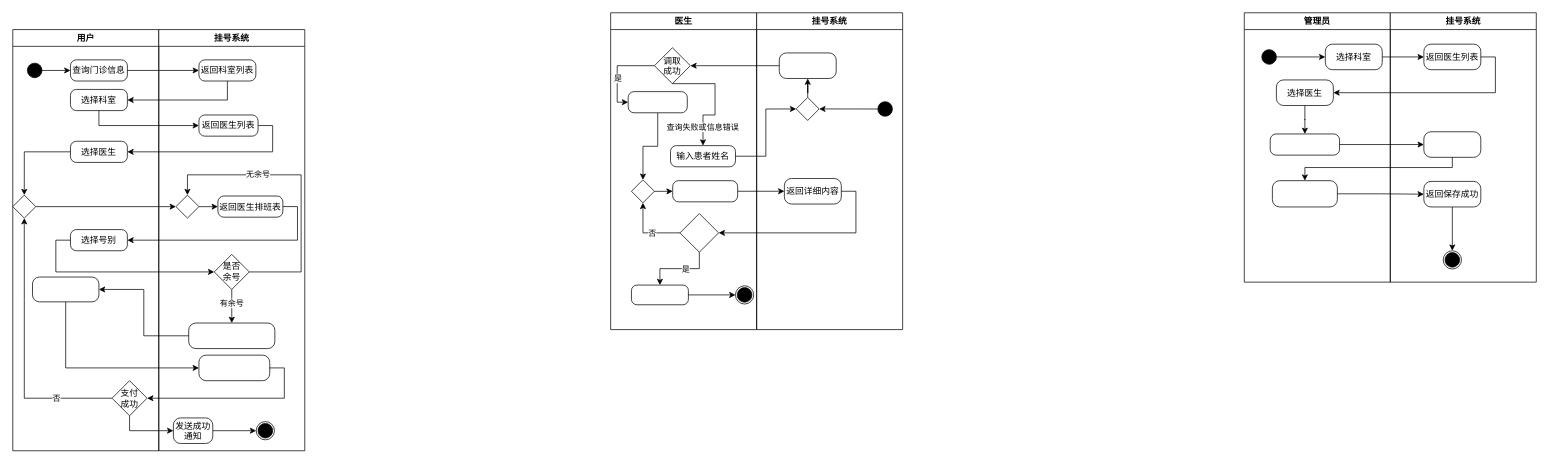
Image size: 1549x464. Some labels were removed from this diagram. Each missing label, with the centre of its shape:
保存模板: pixel 1304 193
关闭页面: pixel 659 294
创建并发送订单: pixel 234 367
更新预览: pixel 1452 144
浏览 完成: pixel 699 232
浏览患者信息: pixel 657 102
点击记录条目: pixel 705 191
编辑模板: pixel 1304 144
调取患者信息: pixel 807 65
选择就诊人 并输入验证码: pixel 65 289
锁定该号并 发送确认验证: pixel 231 335
